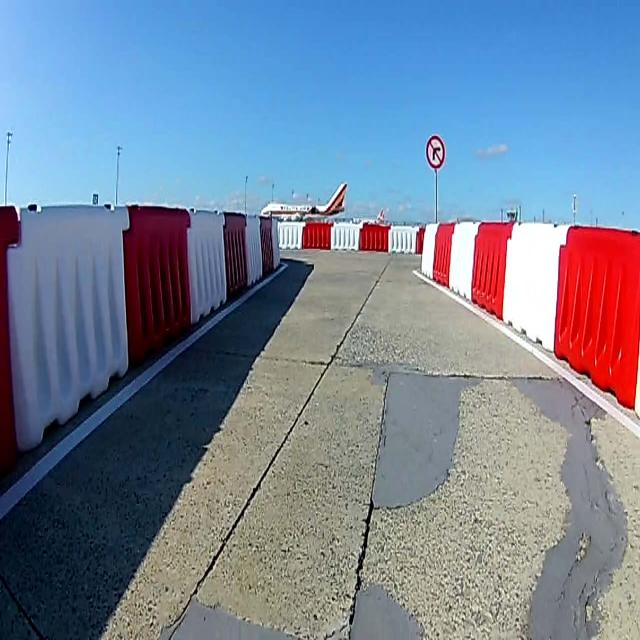sagadonulmez: (426, 136, 444, 166)
